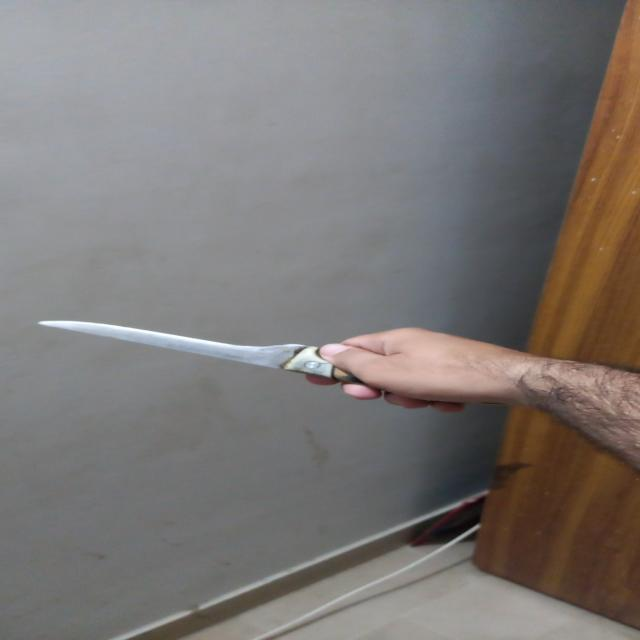knife: (30, 304, 417, 402)
